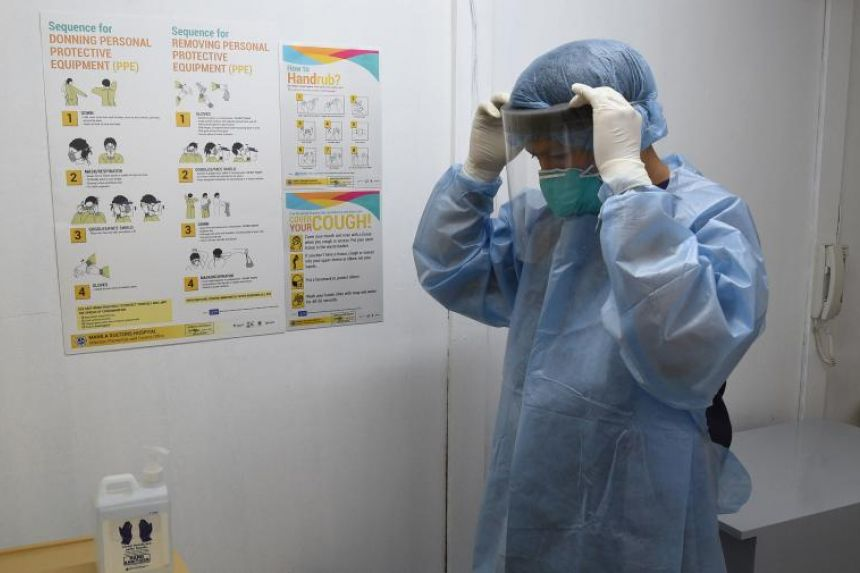Coverall: (442, 165, 756, 573)
Gloves: (572, 80, 664, 199), (460, 91, 536, 187)
with_mask: (534, 143, 607, 222)
